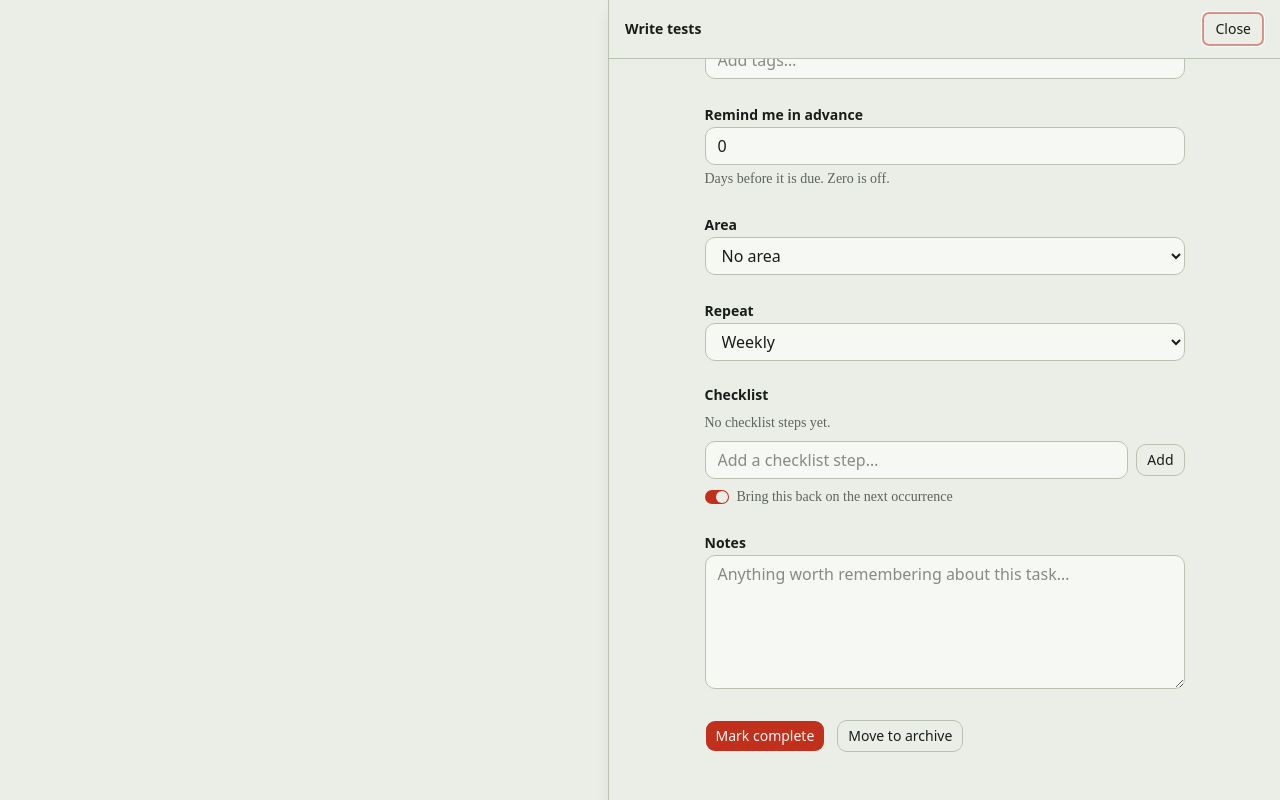
Test: TaskDetailRoute › adds a checklist step opted out of the next occurrence
The image size is (1280, 800).
(page scrolled)
In the field named "New checklist step": (916, 460) [704,441,1128,479], type "Renew passport"
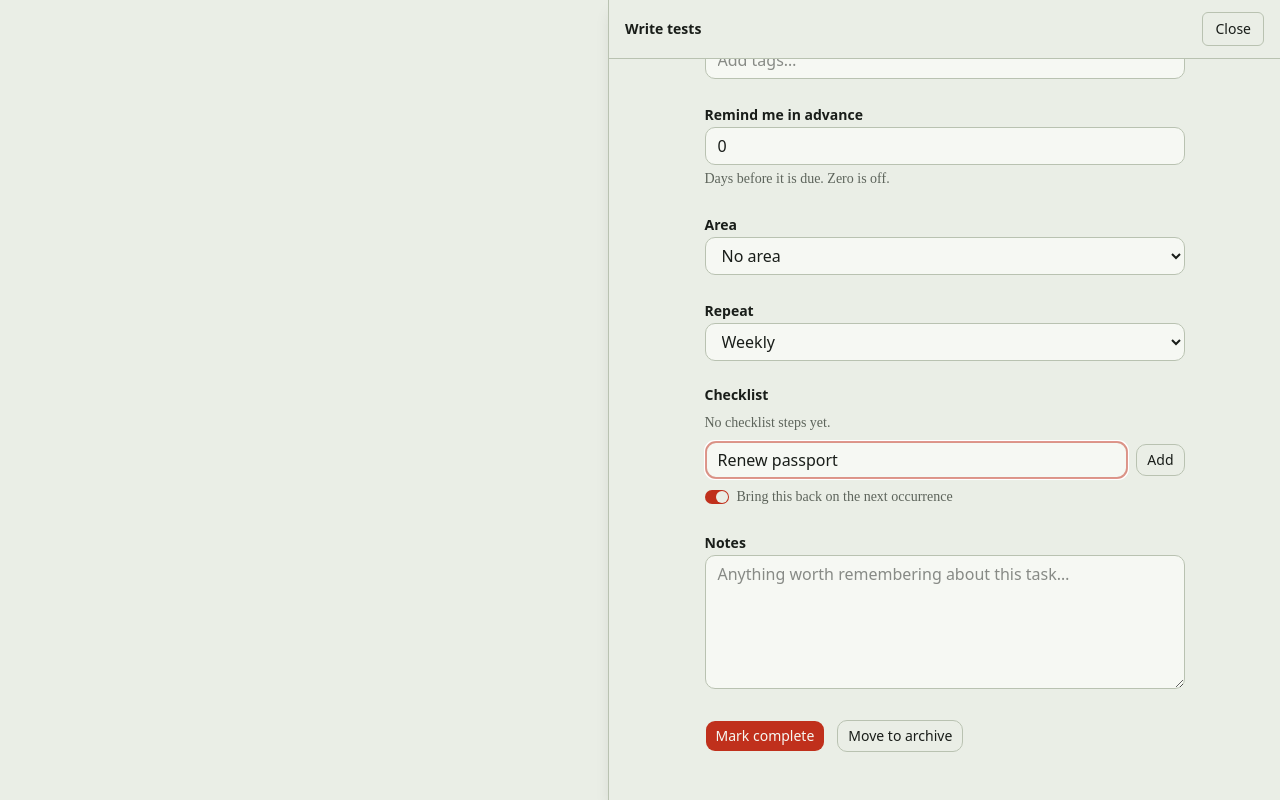
Click the switch named "Bring this back on the next occurrence": (716, 497) [704,490,728,504]
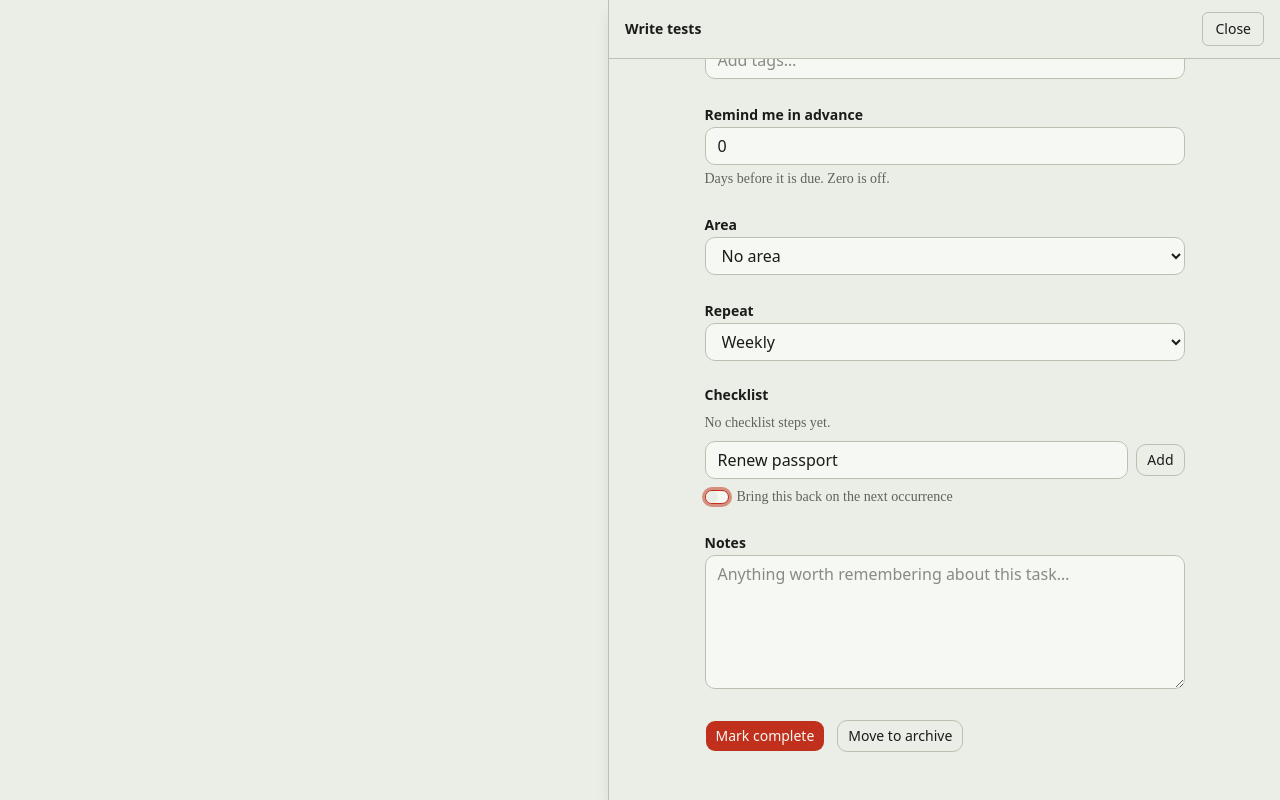
Click the button "Add": (1160, 460) [1136,444,1184,476]
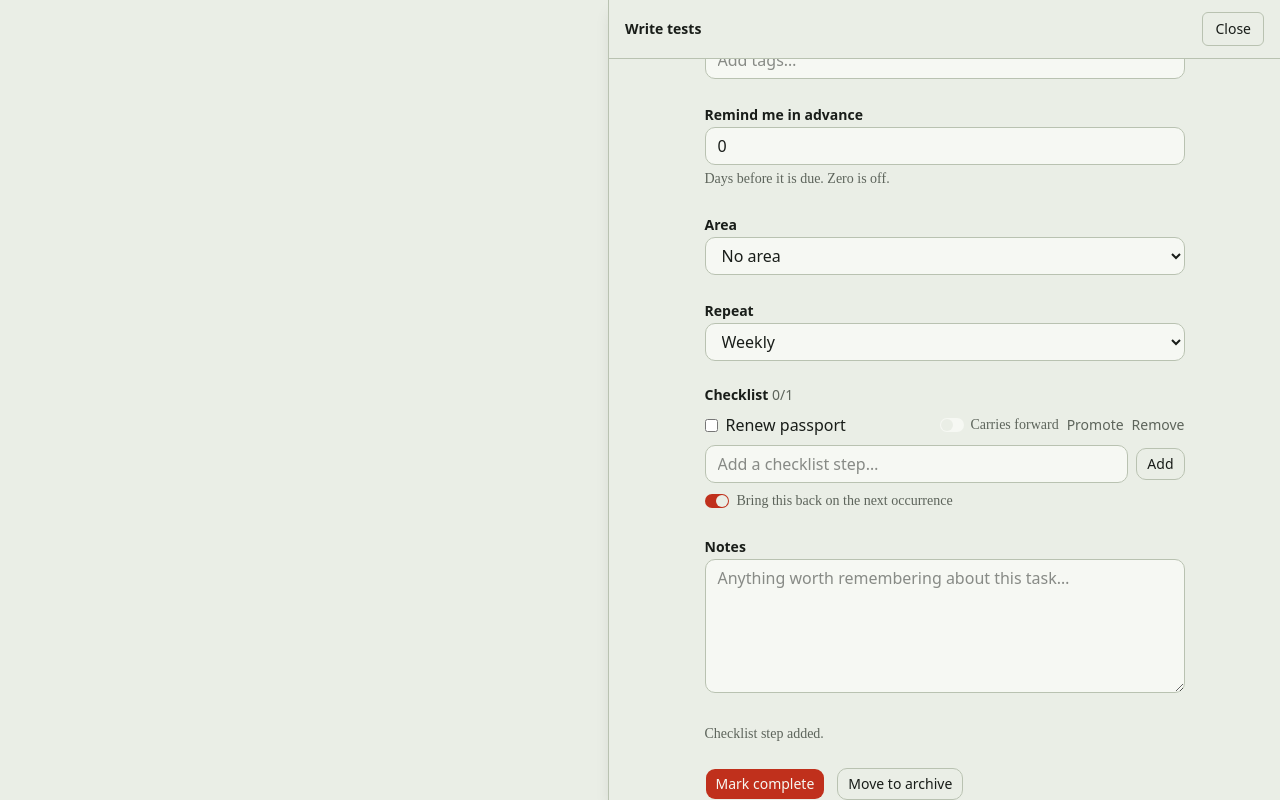
Result: the text "Checklist step added." is shown at [704,726,824,741]
